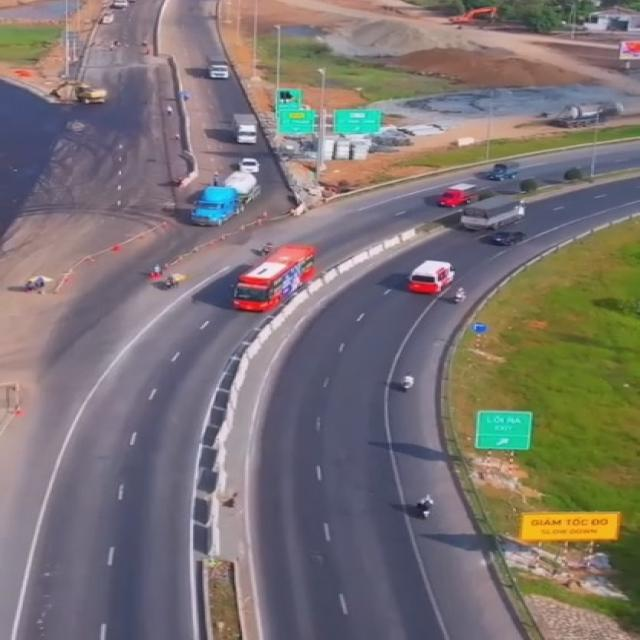bus: (231, 244, 325, 313), (408, 260, 457, 295)
car: (488, 228, 526, 248), (234, 156, 259, 175)
motorbike: (412, 492, 444, 517), (160, 274, 188, 294), (400, 372, 418, 395)
truck: (184, 169, 262, 228), (458, 197, 534, 232), (432, 185, 479, 211), (479, 161, 519, 183), (232, 115, 260, 145), (206, 48, 232, 76)
